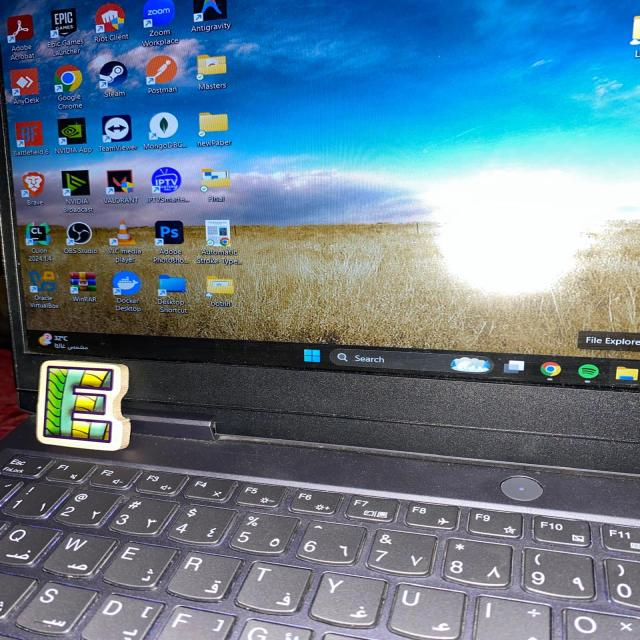E: (37, 361, 130, 451)
